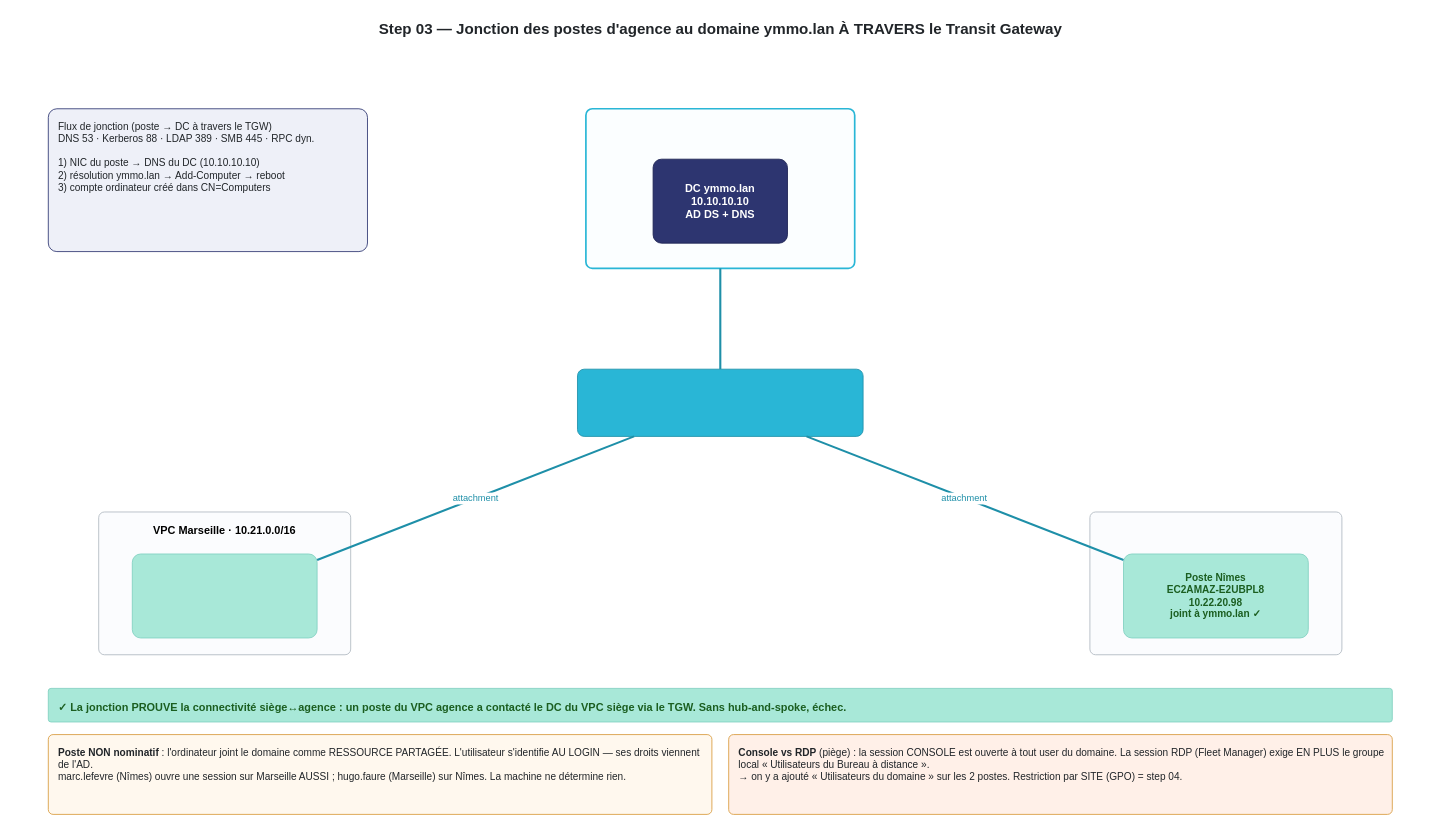
Image size: 1440x829. Some labels were removed from this diagram. The box of each missing label's shape, as (x1, y1, x2, y2) in pixels:
AWS Transit Gateway (hub) rt-hub voit les 3 sites · rt-spokes voit le siège: (577, 368, 863, 436)
Poste Marseille EC2AMAZ-KO8OVH4 10.21.20.115 joint à ymmo.lan ✓: (131, 553, 317, 638)
VPC Nîmes · 10.22.0.0/16: (1089, 511, 1342, 655)
VPC Siège (HUB) · 10.10.0.0/16: (585, 108, 855, 269)
